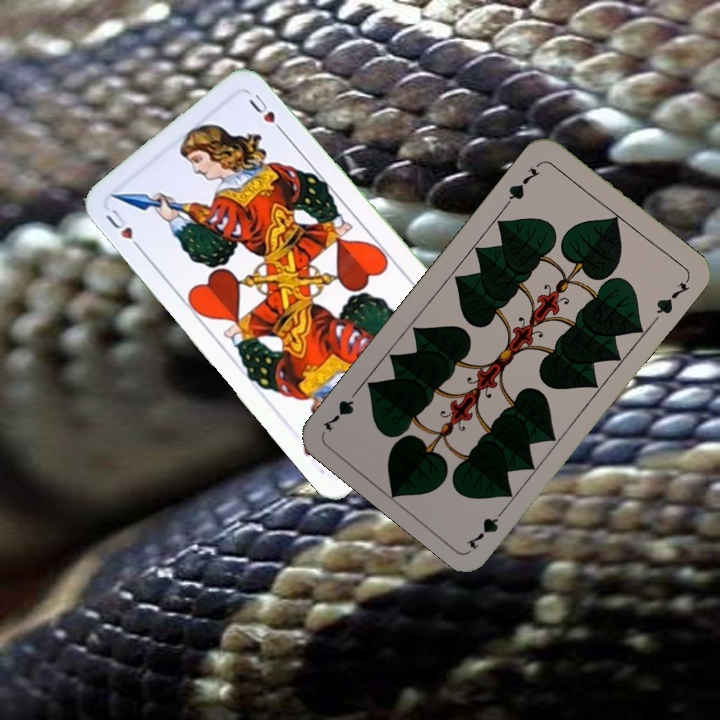G7: (462, 502, 510, 552), (502, 163, 543, 208)
HU: (101, 203, 146, 255)
